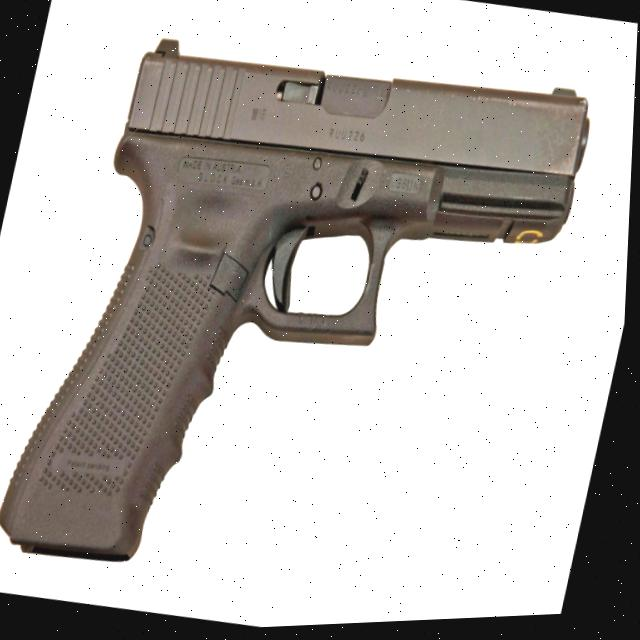gun: (0, 38, 591, 564)
